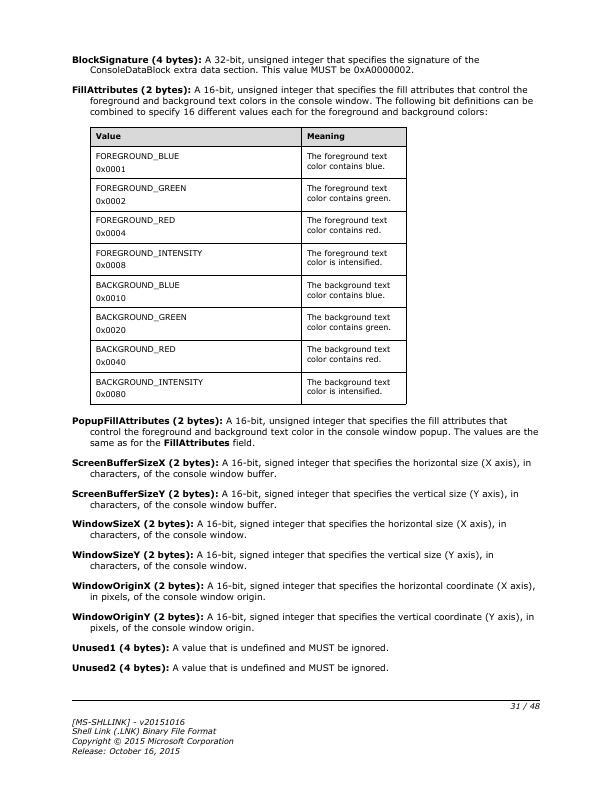table: (88, 126, 409, 408)
text: (68, 414, 539, 449), (68, 83, 534, 117), (68, 516, 510, 543), (70, 579, 538, 604), (68, 457, 534, 481), (70, 611, 539, 634), (70, 486, 523, 509), (68, 549, 497, 572), (68, 54, 482, 75), (68, 714, 236, 757), (68, 641, 391, 657), (68, 662, 393, 676)
